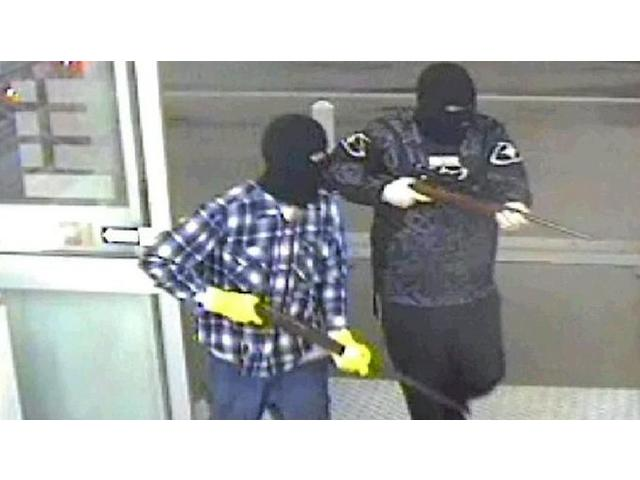rifle: (201, 286, 476, 413), (376, 167, 600, 244)
